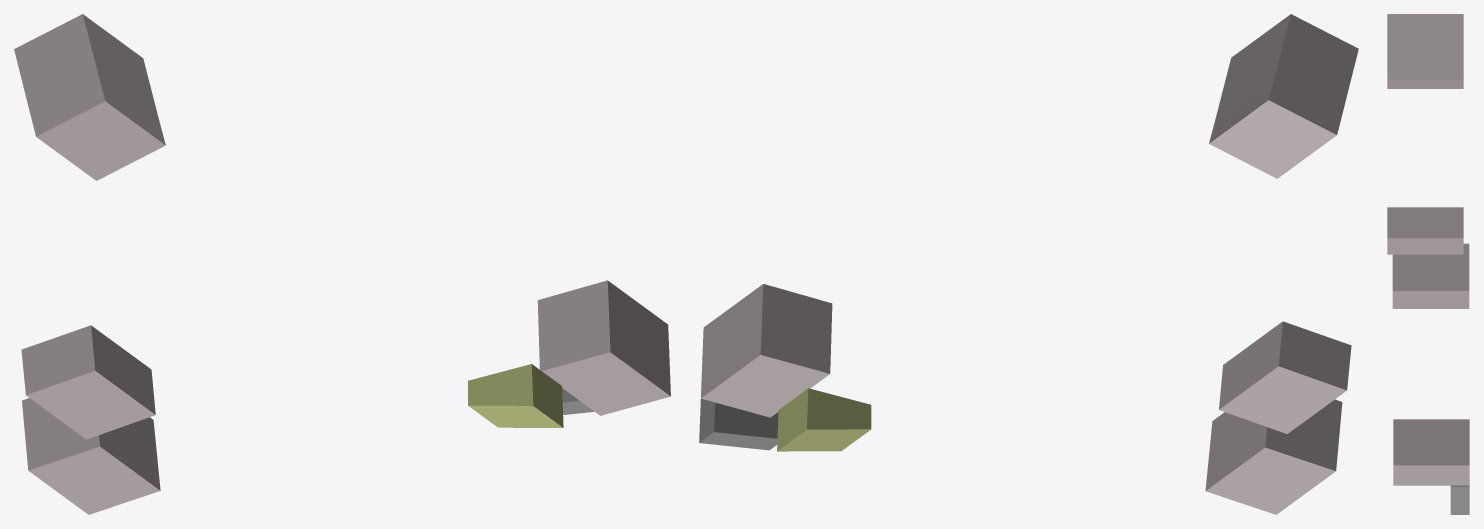
3 views of the same model, side by side, from view 1: azimuth 30°, elevation 25°; view 2: azimuth 150°, elevation 25°; view 3: azimuth 270°, elevation 25° (orthographic). The views are drawn at different scales.
Visible parts, largest first — view 1: 0_1_2_3_3_3_0_3; view 2: 0_1_2_3_3_3_0_3; view 3: 0_1_2_3_3_3_0_3.
Part boxes in pixels (x1,y1,x2,y2): 0_1_2_3_3_3_0_3: [14, 14, 670, 514]; 0_1_2_3_3_3_0_3: [699, 14, 1358, 514]; 0_1_2_3_3_3_0_3: [1387, 14, 1469, 514].
Bounding box in the file's own units: 69.02 × 56.56 × 12.94.
